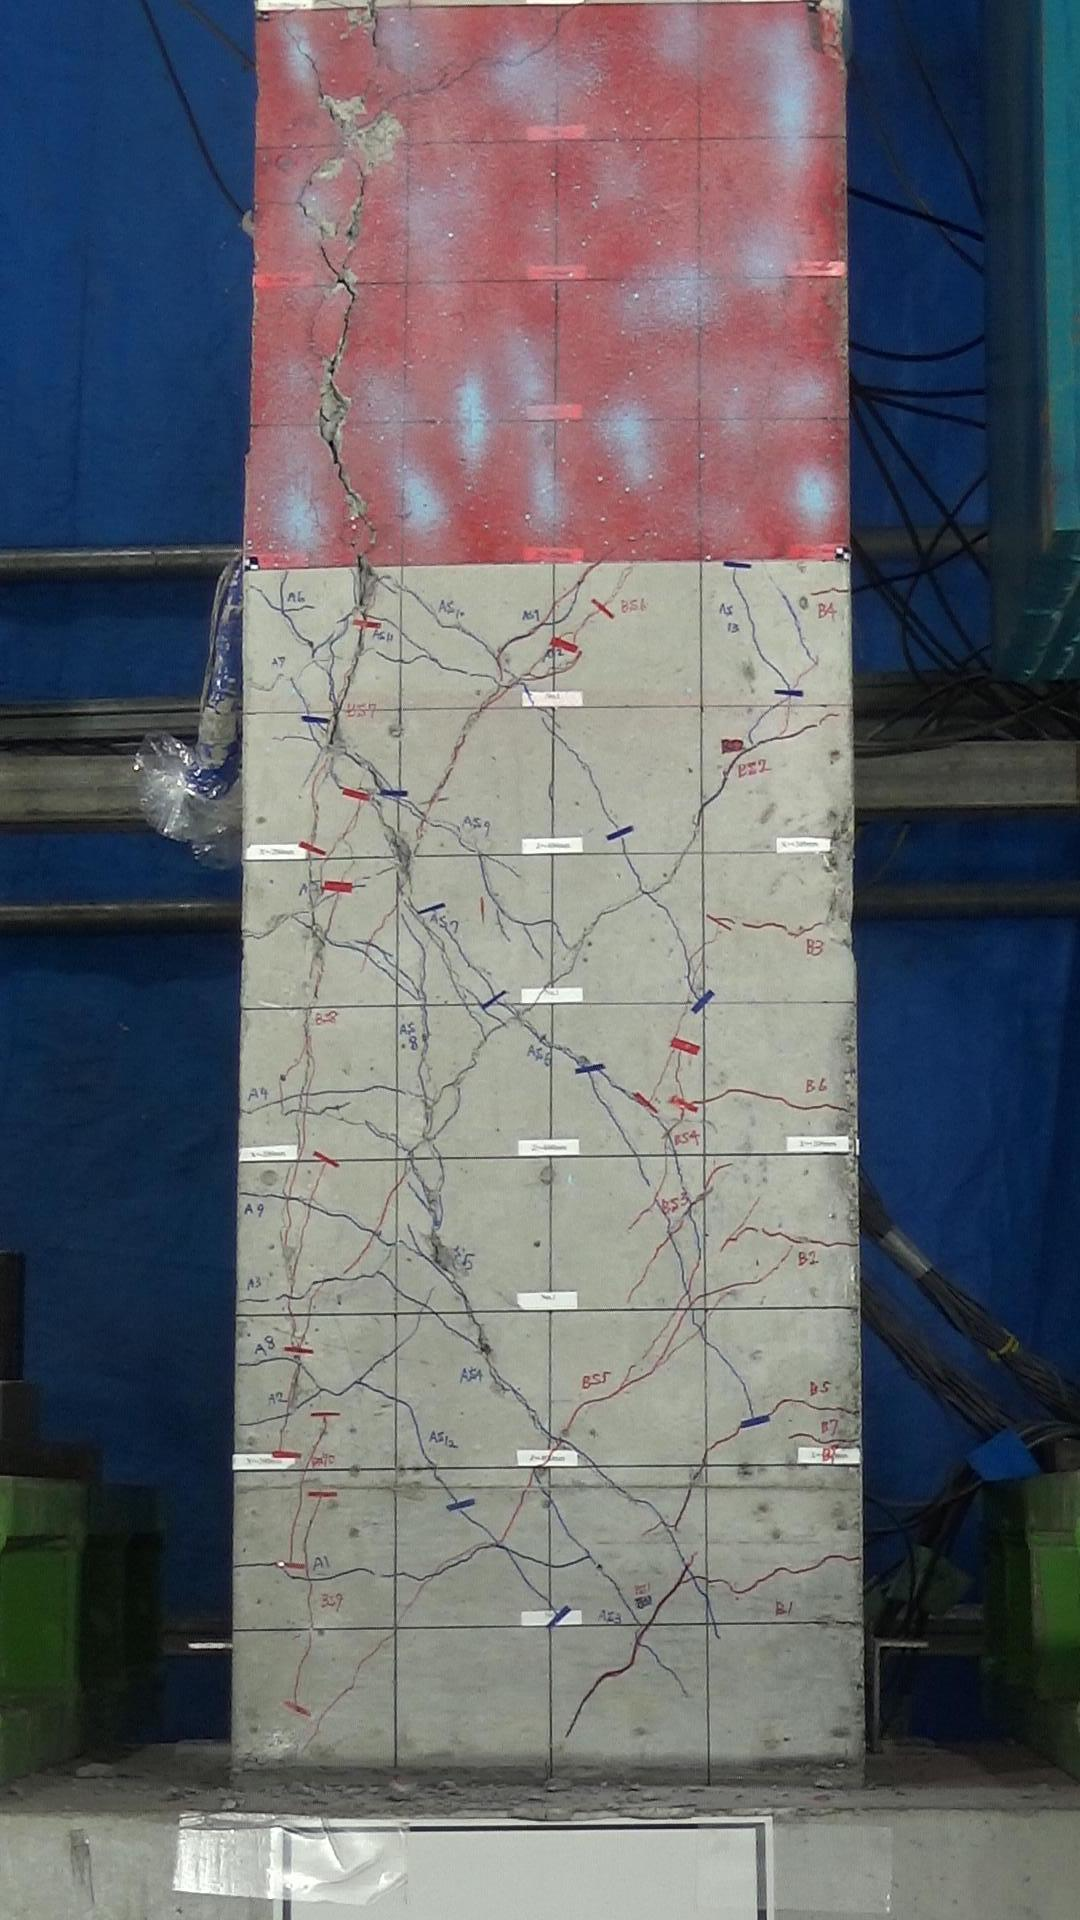Bond Crack: (352, 570, 378, 611), (671, 926, 691, 972), (704, 1604, 724, 1643), (671, 1005, 690, 1040), (311, 1420, 331, 1452), (667, 1108, 687, 1139), (415, 1007, 433, 1043), (729, 568, 748, 601), (280, 1164, 299, 1195), (738, 1387, 758, 1418), (286, 1367, 301, 1408), (473, 858, 491, 893), (671, 1050, 688, 1083), (287, 1667, 301, 1708), (616, 839, 634, 868), (276, 1420, 291, 1453), (413, 1064, 429, 1097), (415, 1444, 435, 1470), (326, 898, 340, 934), (352, 626, 369, 655), (464, 1316, 483, 1342), (306, 778, 322, 808), (301, 1019, 315, 1052), (309, 810, 323, 843), (673, 1241, 686, 1276), (301, 1453, 318, 1480), (287, 1262, 301, 1296), (407, 1408, 422, 1439), (742, 604, 757, 634), (278, 1215, 293, 1244), (302, 1067, 316, 1095), (418, 955, 431, 985), (415, 1040, 431, 1065), (305, 862, 318, 891), (313, 1164, 326, 1193), (293, 1112, 309, 1135), (293, 1477, 307, 1502), (303, 1631, 314, 1665), (436, 1156, 447, 1191), (287, 1316, 299, 1346), (421, 1101, 431, 1134), (309, 1499, 320, 1528), (276, 1068, 287, 1097), (750, 640, 767, 659), (324, 647, 338, 673), (302, 1528, 311, 1563), (286, 1534, 299, 1557), (781, 705, 794, 729), (305, 1601, 315, 1630), (298, 1218, 313, 1240), (290, 1505, 302, 1530), (429, 1226, 438, 1258), (659, 1156, 669, 1188), (295, 1134, 307, 1156), (280, 1197, 293, 1217), (294, 1240, 307, 1258), (286, 1298, 293, 1312)
Flexure Crack: (775, 1560, 815, 1582), (814, 1549, 860, 1567), (709, 1575, 740, 1597), (361, 1565, 400, 1581), (600, 1663, 633, 1680), (758, 733, 789, 752), (440, 620, 468, 640), (328, 940, 360, 957), (378, 647, 404, 669), (313, 1203, 345, 1218), (324, 1385, 357, 1400), (579, 1391, 608, 1408), (556, 1556, 589, 1571), (239, 1560, 278, 1572), (324, 1114, 359, 1127), (382, 1084, 406, 1101), (695, 1287, 723, 1302), (328, 1568, 353, 1584), (287, 1573, 324, 1584), (475, 636, 492, 658), (353, 1084, 380, 1098), (533, 669, 556, 683), (319, 1087, 348, 1097), (407, 653, 425, 666), (543, 618, 563, 629)
Shear Crack: (521, 924, 545, 963), (633, 1495, 663, 1524), (340, 802, 364, 839), (372, 905, 396, 942), (709, 1427, 741, 1455), (608, 890, 640, 918), (550, 1042, 583, 1068), (481, 1360, 510, 1389), (388, 1328, 415, 1358), (626, 1149, 649, 1185), (301, 1718, 324, 1751), (460, 957, 488, 985), (575, 1679, 603, 1706), (456, 1509, 487, 1534), (700, 785, 725, 814), (576, 609, 600, 640), (442, 924, 465, 955), (742, 1572, 775, 1593), (562, 1706, 583, 1739), (520, 1021, 547, 1046), (357, 1356, 386, 1379), (583, 913, 607, 942), (342, 1664, 363, 1695), (683, 1470, 704, 1501), (534, 1592, 559, 1617), (630, 1204, 655, 1229), (289, 680, 309, 712), (430, 766, 454, 793), (767, 662, 791, 688), (456, 1059, 479, 1087), (562, 1443, 591, 1464), (596, 1469, 625, 1490), (607, 1105, 625, 1138), (647, 893, 671, 918), (571, 566, 596, 589), (607, 579, 624, 613), (686, 818, 703, 852), (645, 1241, 666, 1269), (665, 1530, 686, 1557), (666, 852, 684, 884), (405, 1226, 425, 1255), (646, 1073, 666, 1102), (512, 1484, 531, 1513), (251, 587, 274, 611), (508, 626, 543, 642), (338, 671, 356, 702), (585, 1073, 604, 1104), (462, 708, 483, 735), (560, 653, 582, 679), (702, 1333, 723, 1360), (345, 1215, 373, 1234), (562, 1404, 582, 1432), (438, 1476, 458, 1503), (501, 1511, 521, 1539), (375, 804, 393, 833), (407, 1183, 426, 1212), (318, 1695, 342, 1717), (434, 1266, 458, 1288), (542, 723, 564, 746), (429, 1563, 454, 1584), (305, 649, 326, 674), (465, 1009, 487, 1034), (629, 1271, 646, 1302), (551, 1501, 568, 1531), (493, 907, 508, 943), (530, 1476, 553, 1498), (359, 1642, 382, 1663), (396, 582, 419, 603), (762, 560, 779, 589), (516, 1567, 535, 1592), (421, 793, 440, 818), (367, 1124, 392, 1143), (575, 752, 593, 778), (546, 971, 574, 988), (375, 1269, 396, 1291), (495, 997, 517, 1018), (587, 785, 608, 807), (566, 948, 585, 972), (447, 977, 465, 1002), (783, 597, 799, 626), (796, 632, 812, 661), (673, 1501, 690, 1527), (286, 618, 307, 640), (487, 684, 508, 705), (736, 740, 757, 761), (343, 1250, 363, 1273), (495, 638, 514, 661), (637, 1338, 655, 1362), (750, 708, 774, 727), (663, 1580, 683, 1601), (597, 1568, 617, 1589), (327, 767, 344, 791), (514, 1385, 531, 1408), (533, 1414, 550, 1437), (425, 601, 440, 626), (658, 1309, 674, 1335), (345, 753, 367, 771), (615, 1592, 633, 1613), (724, 756, 737, 783), (397, 1601, 411, 1626), (604, 808, 618, 833), (663, 1662, 680, 1683), (404, 1292, 426, 1308), (452, 735, 465, 761), (411, 1582, 429, 1602), (618, 1362, 638, 1379), (564, 593, 578, 618), (456, 1292, 473, 1311), (436, 959, 454, 977), (326, 837, 340, 858), (500, 1547, 516, 1565), (729, 1361, 741, 1385), (671, 1218, 687, 1236), (644, 1647, 659, 1662), (378, 1205, 388, 1228)
